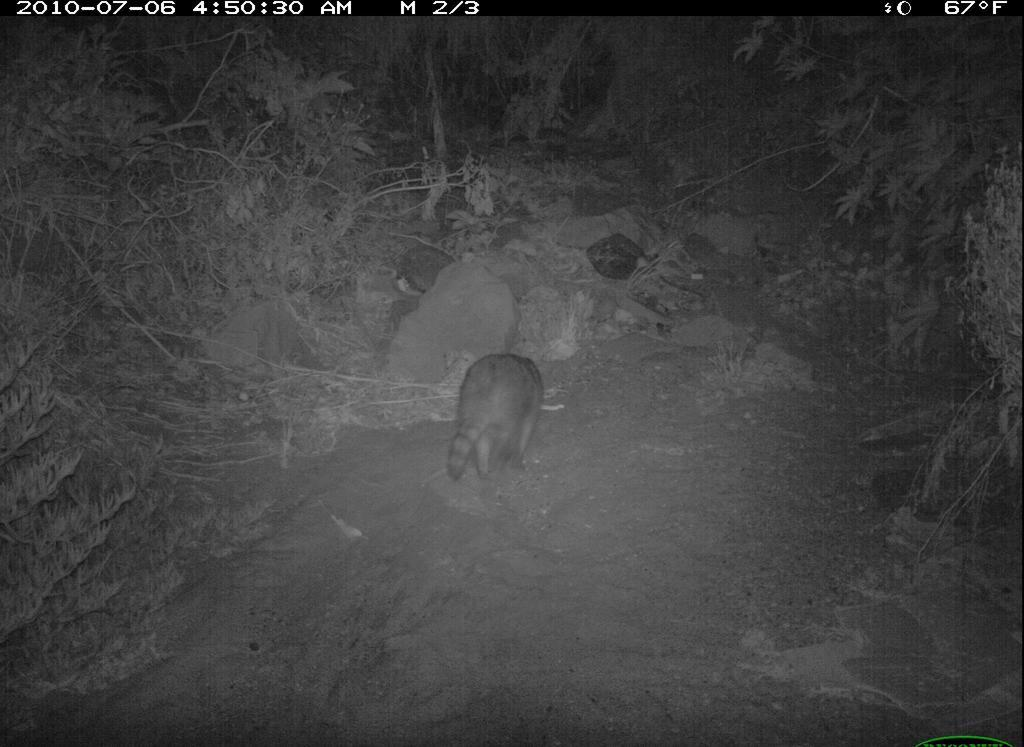raccoon: (438, 327, 578, 502)
